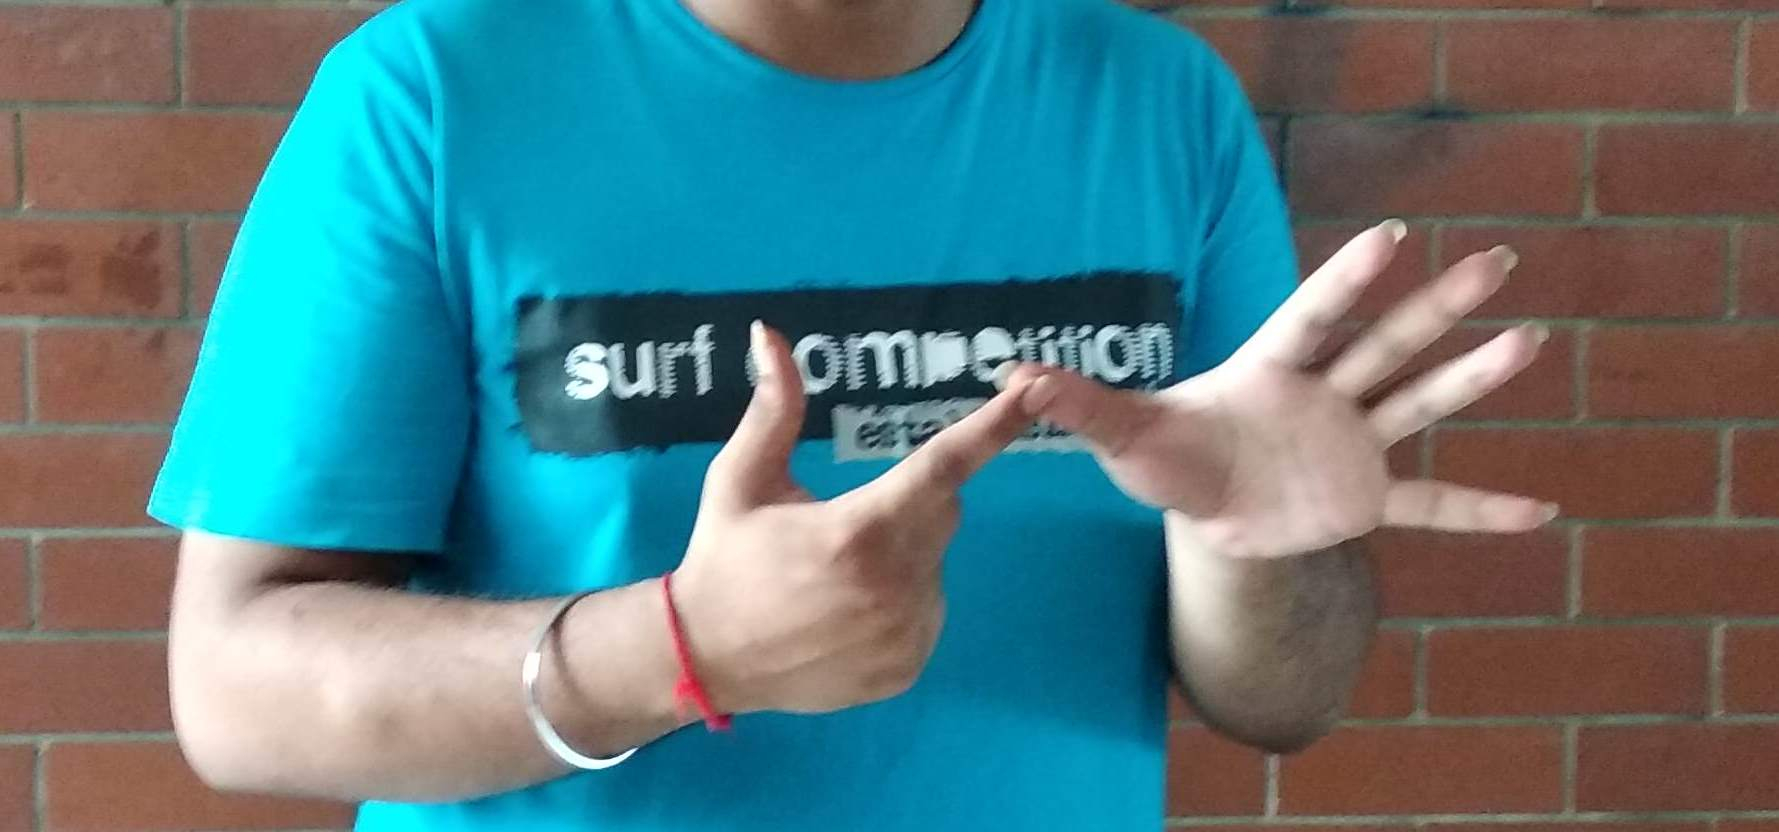a: (681, 205, 1501, 661)
